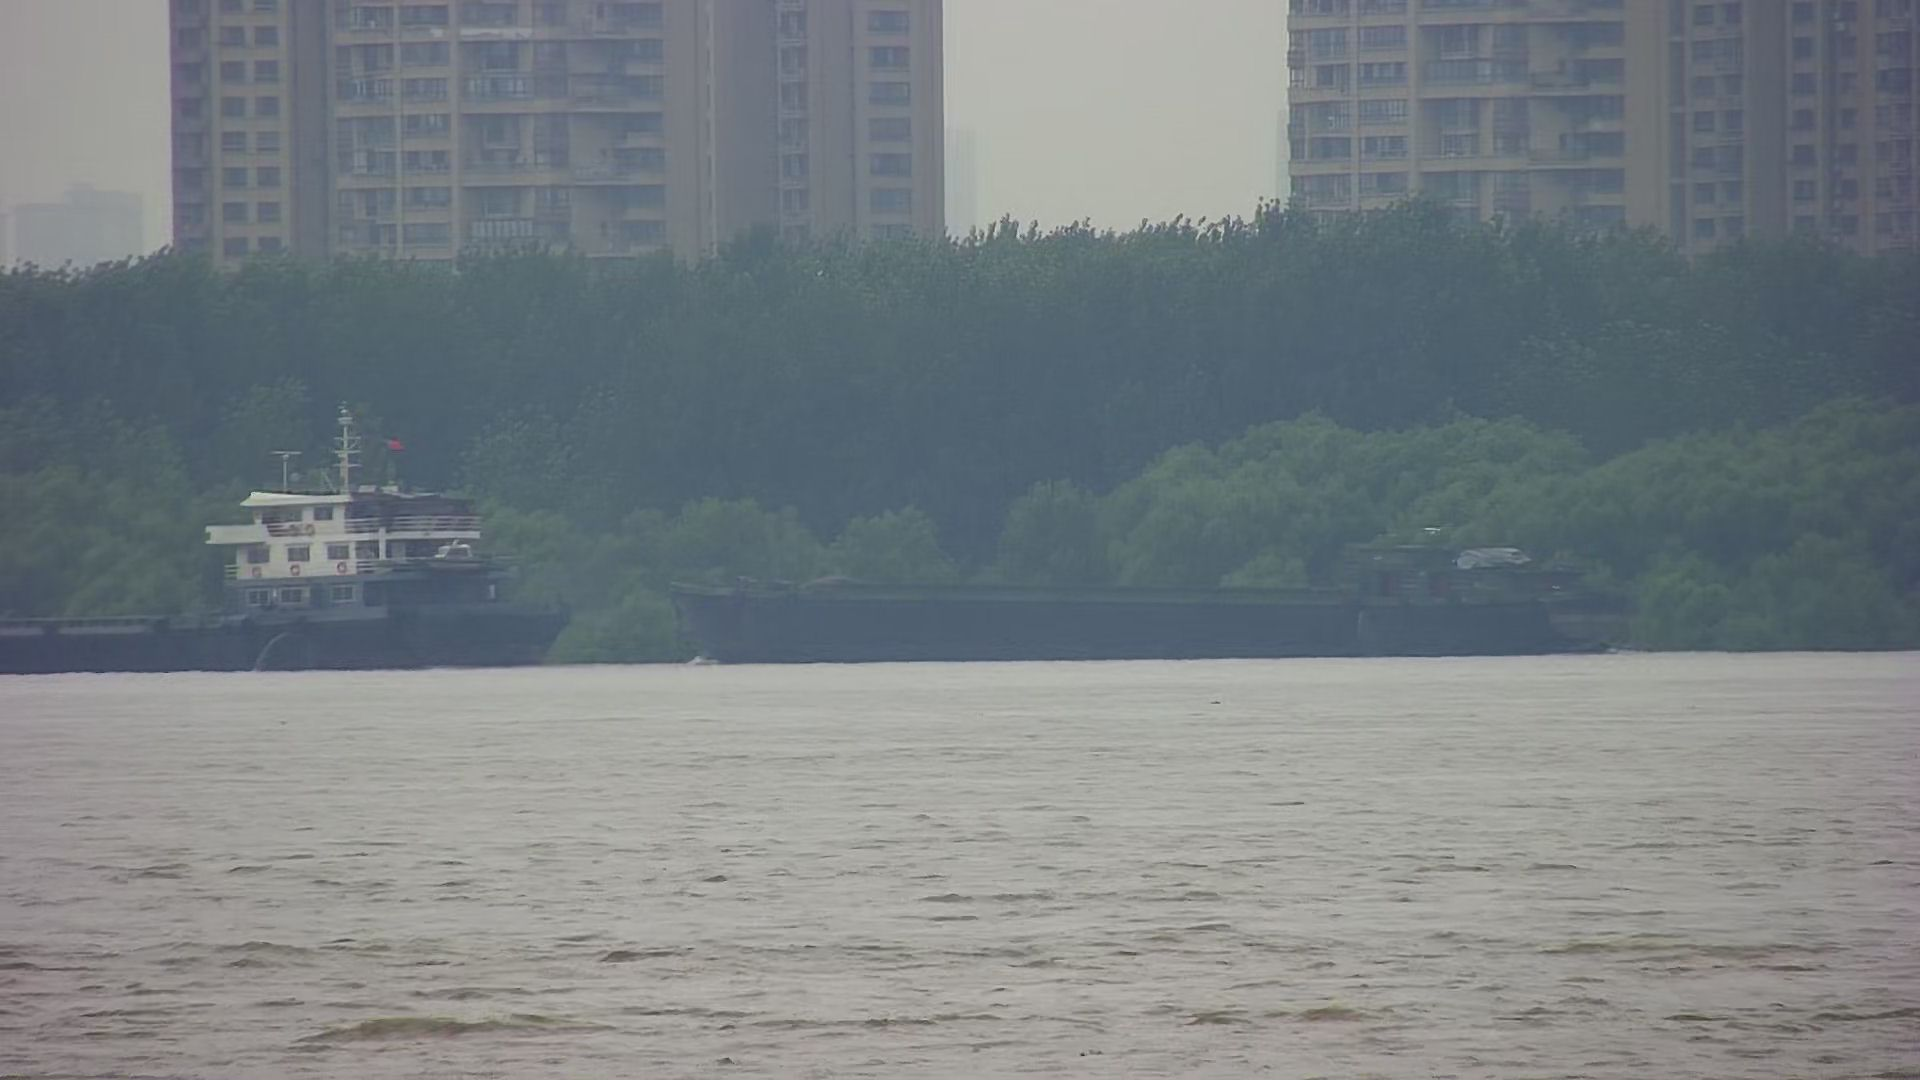ship: (1, 397, 572, 678), (667, 535, 1642, 658)
